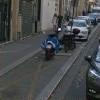Motorcycle: (33, 31, 67, 63)
